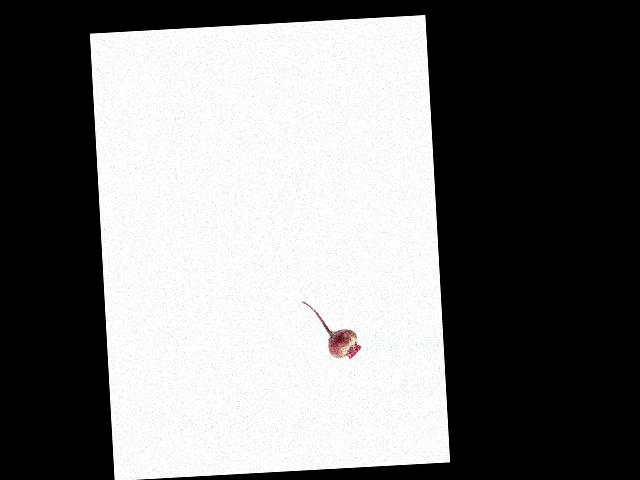beet: (302, 298, 361, 361)
